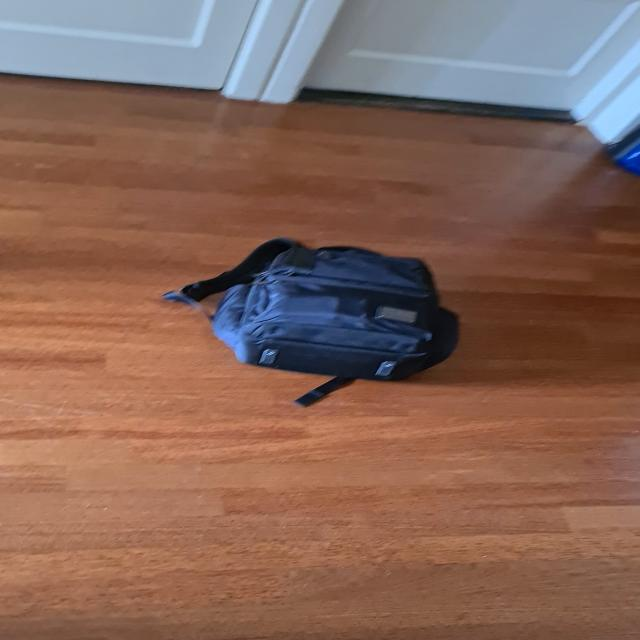backpack: (182, 230, 475, 396)
